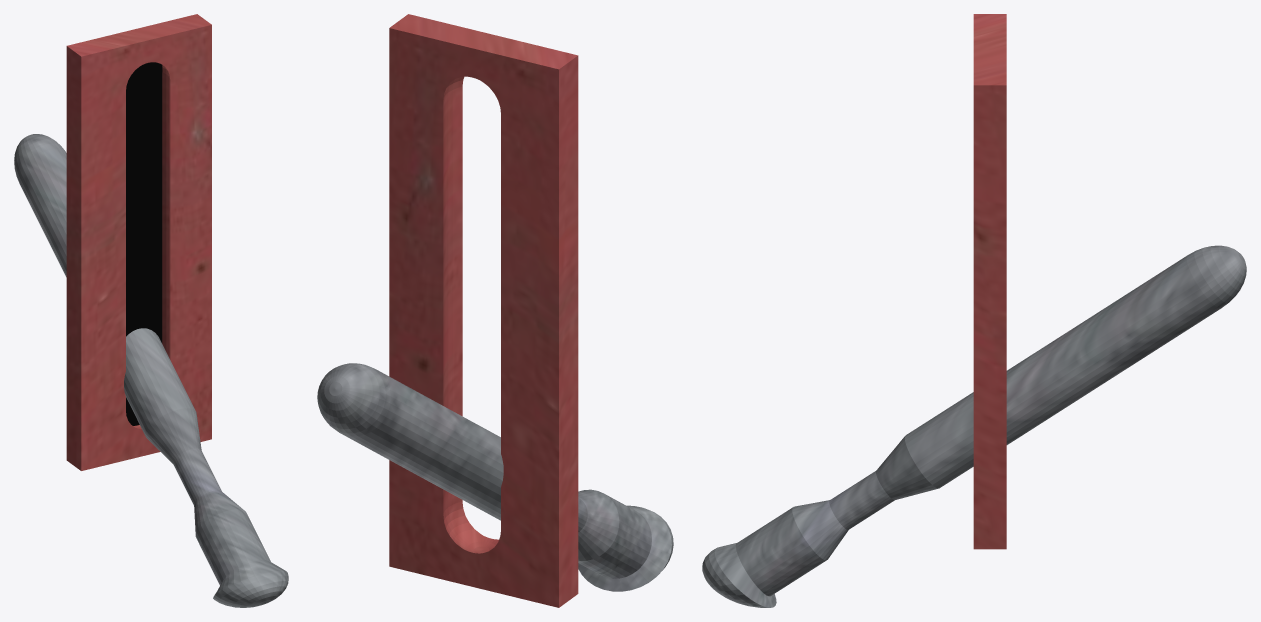
The model's file is handle_down.glb.
The picture shows the model from 3 angles, left to right: view 1: azimuth 30°, elevation 25°; view 2: azimuth 150°, elevation 25°; view 3: azimuth 270°, elevation 25°; orthographic projection. The views are drawn at different scales.
Visible parts, largest first — view 1: Cube.001, Cube.002, Cube.003; view 2: Cube.001, Cube.002; view 3: Cube.002, Cube.001.
Boxes of the visible parts, box(x1,y1,x2,y2) form: Cube.001: box(66, 14, 211, 470); Cube.002: box(14, 134, 288, 607); Cube.003: box(126, 62, 162, 425); Cube.001: box(389, 14, 578, 607); Cube.002: box(317, 363, 673, 591); Cube.002: box(702, 245, 1246, 607); Cube.001: box(973, 14, 1006, 549).
Size of the model in its own units: 0.6598 by 2.38 by 2.13.
3 materials, 2 textured.
